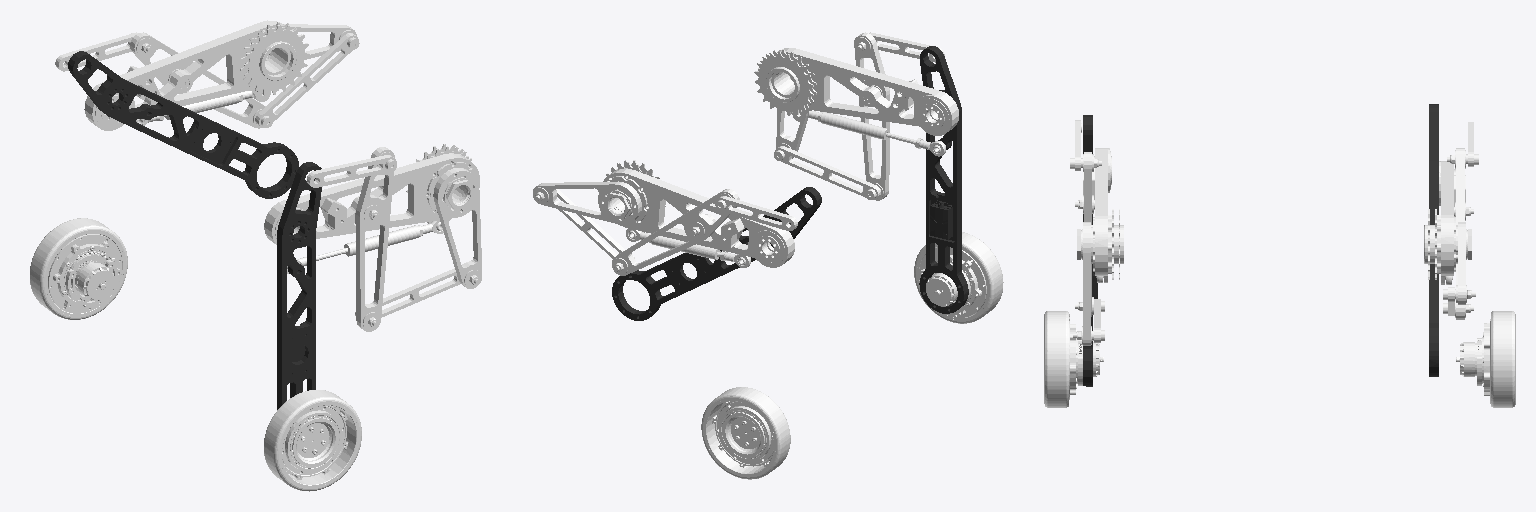
The robot description file, URDF, robot "4.SLDASM":
<?xml version="1.0" encoding="utf-8"?>
<!-- This URDF was automatically created by SolidWorks to URDF Exporter! Originally created by Stephen Brawner (brawner@gmail.com) 
     Commit Version: 1.6.0-4-g7f85cfe  Build Version: 1.6.7995.38578
     For more information, please see http://wiki.ros.org/sw_urdf_exporter -->
<robot
  name="4.SLDASM">
  <link
    name="base_link">
    <inertial>
      <origin
        xyz="0.00720151573197648 0.00317841983811908 0.0894302776280683"
        rpy="0 0 0" />
      <mass
        value="11.8018663715117" />
      <inertia
        ixx="0.0213394189150672"
        ixy="5.36349556079974E-05"
        ixz="0.000879723284753483"
        iyy="0.0270248419744424"
        iyz="-1.54184392117092E-06"
        izz="0.0337928486088362" />
    </inertial>
    <visual>
      <origin
        xyz="0 0 0"
        rpy="0 0 0" />
      <geometry>
        <mesh
          filename="../meshes/base_link.STL" />
      </geometry>
      <material
        name="">
        <color
          rgba="1 1 1 1" />
      </material>
    </visual>
    <collision>
      <origin
        xyz="0 0 0"
        rpy="0 0 0" />
      <geometry>
        <mesh
          filename="../meshes/base_link.STL" />
      </geometry>
    </collision>
  </link>
  <link
    name="L_Link1">
    <inertial>
      <origin
        xyz="-0.0118236975898316 -0.0772945870902954 -0.0132729663706566"
        rpy="0 0 0" />
      <mass
        value="0.362949797331699" />
      <inertia
        ixx="0.0011099998896383"
        ixy="2.22748064001169E-06"
        ixz="1.74915460711984E-09"
        iyy="0.00029270919440718"
        iyz="2.12974270846079E-06"
        izz="0.000835077771369502" />
    </inertial>
    <visual>
      <origin
        xyz="0 0 0"
        rpy="0 0 0" />
      <geometry>
        <mesh
          filename="../meshes/L_Link1.STL" />
      </geometry>
      <material
        name="">
        <color
          rgba="1 1 1 1" />
      </material>
    </visual>
    <collision>
      <origin
        xyz="0 0 0"
        rpy="0 0 0" />
      <geometry>
        <mesh
          filename="../meshes/L_Link1.STL" />
      </geometry>
    </collision>
  </link>
  <joint
    name="LJ1"
    type="continuous">
    <origin
      xyz="0 0.2064 0"
      rpy="0 0 -1.5708" />
    <parent
      link="base_link" />
    <child
      link="L_Link1" />
    <axis
      xyz="-1 0 0" />
  </joint>
  <link
    name="L_Link2">
    <inertial>
      <origin
        xyz="0.00622058595874936 0.00144701597815758 -0.106927835854411"
        rpy="0 0 0" />
      <mass
        value="0.17859570494211" />
      <inertia
        ixx="0.00172795341353165"
        ixy="-6.74002614588321E-08"
        ixz="-2.07725424791592E-06"
        iyy="0.00168619343255335"
        iyz="-3.90580330450679E-05"
        izz="4.59404531858625E-05" />
    </inertial>
    <visual>
      <origin
        xyz="0 0 0"
        rpy="0 0 0" />
      <geometry>
        <mesh
          filename="../meshes/L_Link2.STL" />
      </geometry>
      <material
        name="">
        <color
          rgba="0.250980392156863 0.250980392156863 0.250980392156863 1" />
      </material>
    </visual>
    <collision>
      <origin
        xyz="0 0 0"
        rpy="0 0 0" />
      <geometry>
        <mesh
          filename="../meshes/L_Link2.STL" />
      </geometry>
    </collision>
  </link>
  <joint
    name="LJ2"
    type="revolute">
    <origin
      xyz="-0.0300000000000003 -0.209999999988587 0"
      rpy="0 0 0" />
    <parent
      link="L_Link1" />
    <child
      link="L_Link2" />
    <axis
      xyz="1 0 0" />
    <limit lower="-0.41538836197465" upper="0.872664625997165" effort="30" velocity="1000" />
  </joint>
  <link
    name="L_Link3">
    <inertial>
      <origin
        xyz="-0.00943382736340331 1.34799182541223E-06 -0.000251537886579251"
        rpy="0 0 0" />
      <mass
        value="0.252863319281317" />
      <inertia
        ixx="0.000457876711915956"
        ixy="3.31205802272693E-09"
        ixz="3.27021838989517E-07"
        iyy="0.00023910975666017"
        iyz="-3.72582078877783E-10"
        izz="0.000240301747245214" />
    </inertial>
    <visual>
      <origin
        xyz="0 0 0"
        rpy="0 0 0" />
      <geometry>
        <mesh
          filename="../meshes/L_Link3.STL" />
      </geometry>
      <material
        name="">
        <color
          rgba="1 1 1 1" />
      </material>
    </visual>
    <collision>
      <origin
        xyz="0 0 0"
        rpy="0 0 0" />
      <geometry>
        <mesh
          filename="../meshes/L_Link3.STL" />
      </geometry>
    </collision>
  </link>
  <joint
    name="LJ3"
    type="continuous">
    <origin
      xyz="-0.0149999999999925 0 -0.249999999999998"
      rpy="0 0 0" />
    <parent
      link="L_Link2" />
    <child
      link="L_Link3" />
    <axis
      xyz="-0.999999999999981 0 0" />
  </joint>
  <link
    name="R_Link1">
    <inertial>
      <origin
        xyz="0.0118236662014992 -0.0772946388441419 -0.0132729652516751"
        rpy="0 0 0" />
      <mass
        value="0.362949568376505" />
      <inertia
        ixx="0.00110999986028311"
        ixy="-2.22767437325096E-06"
        ixz="-1.74602456928435E-09"
        iyy="0.000292709100069559"
        iyz="2.12970345804993E-06"
        izz="0.00083507783763184" />
    </inertial>
    <visual>
      <origin
        xyz="0 0 0"
        rpy="0 0 0" />
      <geometry>
        <mesh
          filename="../meshes/R_Link1.STL" />
      </geometry>
      <material
        name="">
        <color
          rgba="1 1 1 1" />
      </material>
    </visual>
    <collision>
      <origin
        xyz="0 0 0"
        rpy="0 0 0" />
      <geometry>
        <mesh
          filename="../meshes/R_Link1.STL" />
      </geometry>
    </collision>
  </link>
  <joint
    name="RJ1"
    type="continuous">
    <origin
      xyz="0 -0.2064 0"
      rpy="0 0 -1.5708" />
    <parent
      link="base_link" />
    <child
      link="R_Link1" />
    <axis
      xyz="-1 0 0" />
  </joint>
  <link
    name="R_Link2">
    <inertial>
      <origin
        xyz="-0.00624940310274325 0.00144026880096954 -0.107143907208437"
        rpy="0 0 0" />
      <mass
        value="0.168393373141602" />
      <inertia
        ixx="0.00162195356397668"
        ixy="6.31865178226149E-08"
        ixz="1.95003057428435E-06"
        iyy="0.00158272632458606"
        iyz="-3.66579365157784E-05"
        izz="4.31676526301467E-05" />
    </inertial>
    <visual>
      <origin
        xyz="0 0 0"
        rpy="0 0 0" />
      <geometry>
        <mesh
          filename="../meshes/R_Link2.STL" />
      </geometry>
      <material
        name="">
        <color
          rgba="0.250980392156863 0.250980392156863 0.250980392156863 1" />
      </material>
    </visual>
    <collision>
      <origin
        xyz="0 0 0"
        rpy="0 0 0" />
      <geometry>
        <mesh
          filename="../meshes/R_Link2.STL" />
      </geometry>
    </collision>
  </link>
  <joint
    name="RJ2"
    type="revolute">
    <origin
      xyz="0.03 -0.21 0"
      rpy="0 0 0" />
    <parent
      link="R_Link1" />
    <child
      link="R_Link2" />
    <axis
      xyz="1 0 0" />
    <limit lower="-0.41538836197465" upper="0.872664625997165" effort="30" velocity="1000" />
  </joint>
  <link
    name="R_Link3">
    <inertial>
      <origin
        xyz="0.0094338273633463 -1.34838453136332E-06 -0.000251537886678477"
        rpy="0 0 0" />
      <mass
        value="0.252863319281318" />
      <inertia
        ixx="0.000457876711916232"
        ixy="3.30295332036486E-09"
        ixz="-3.27021839186E-07"
        iyy="0.000239109756658674"
        iyz="3.72593392244399E-10"
        izz="0.000240301747246437" />
    </inertial>
    <visual>
      <origin
        xyz="0 0 0"
        rpy="0 0 0" />
      <geometry>
        <mesh
          filename="../meshes/R_Link3.STL" />
      </geometry>
      <material
        name="">
        <color
          rgba="1 1 1 1" />
      </material>
    </visual>
    <collision>
      <origin
        xyz="0 0 0"
        rpy="0 0 0" />
      <geometry>
        <mesh
          filename="../meshes/R_Link3.STL" />
      </geometry>
    </collision>
  </link>
  <joint
    name="RJ3"
    type="continuous">
    <origin
      xyz="0.015 0 -0.25"
      rpy="0 0 0" />
    <parent
      link="R_Link2" />
    <child
      link="R_Link3" />
    <axis
      xyz="-1 0 0" />
  </joint>
</robot>

--- Render facts (derived) ---
3 views of the same robot in one strip: view 1: azimuth 30°, elevation 25°; view 2: azimuth 150°, elevation 25°; view 3: azimuth 270°, elevation 25° (orthographic).
Robot: 4.SLDASM — 7 links, 6 joints (2 revolute, 4 continuous); root link base_link; default pose: all joints at 0.
Visible links, largest first — view 1: R_Link1, L_Link1, L_Link2, L_Link3, R_Link3, R_Link2; view 2: R_Link1, L_Link1, L_Link3, R_Link2, R_Link3, L_Link2; view 3: R_Link1, L_Link1, L_Link3, R_Link3, L_Link2, R_Link2.
Link boxes in pixels (bbox=[...]): R_Link1: bbox=[264, 144, 481, 331]; L_Link1: bbox=[55, 20, 359, 130]; L_Link2: bbox=[68, 51, 298, 198]; L_Link3: bbox=[30, 218, 127, 319]; R_Link3: bbox=[264, 390, 361, 491]; R_Link2: bbox=[277, 162, 321, 409]; R_Link1: bbox=[754, 32, 958, 200]; L_Link1: bbox=[533, 160, 797, 275]; L_Link3: bbox=[701, 387, 790, 479]; R_Link2: bbox=[919, 46, 968, 313]; R_Link3: bbox=[914, 232, 1003, 323]; L_Link2: bbox=[612, 187, 821, 320]; R_Link1: bbox=[1070, 120, 1123, 345]; L_Link1: bbox=[1424, 122, 1478, 319]; L_Link3: bbox=[1456, 311, 1515, 407]; R_Link3: bbox=[1044, 311, 1103, 407]; L_Link2: bbox=[1429, 104, 1438, 376]; R_Link2: bbox=[1083, 115, 1097, 386].
Size in the robot's own frame: 0.3941 by 0.5648 by 0.3877 metres.
Meshes: 7 distinct files referenced, 6 mesh visuals loaded (6 binary STL); not drawn: 1 (reference not matched to a file when rendering).
